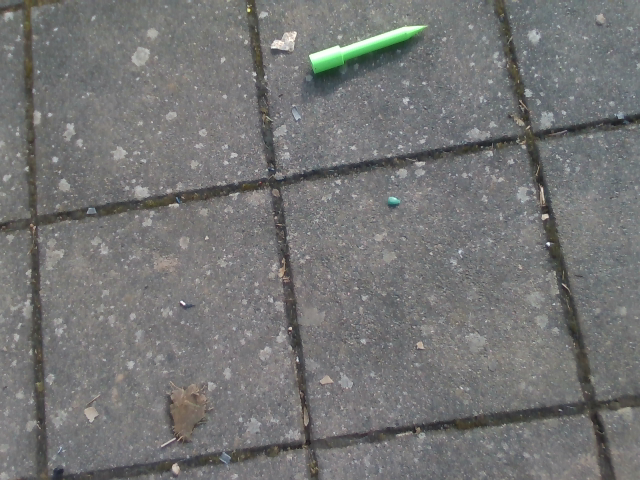Probe: (306, 18, 433, 80)
